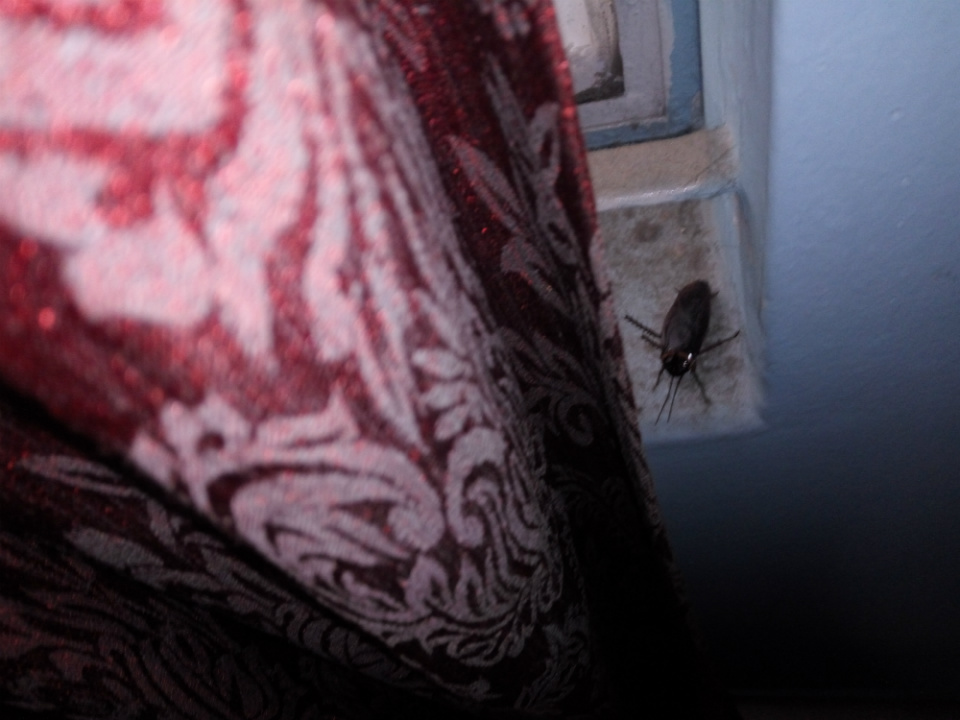cockroach: (635, 250, 760, 419)
